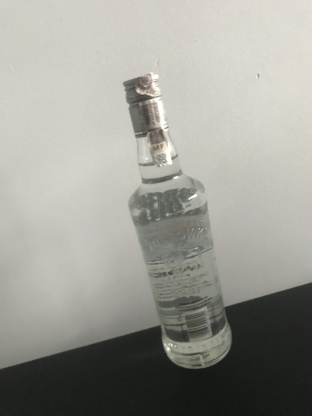nakretka: (121, 70, 170, 141)
